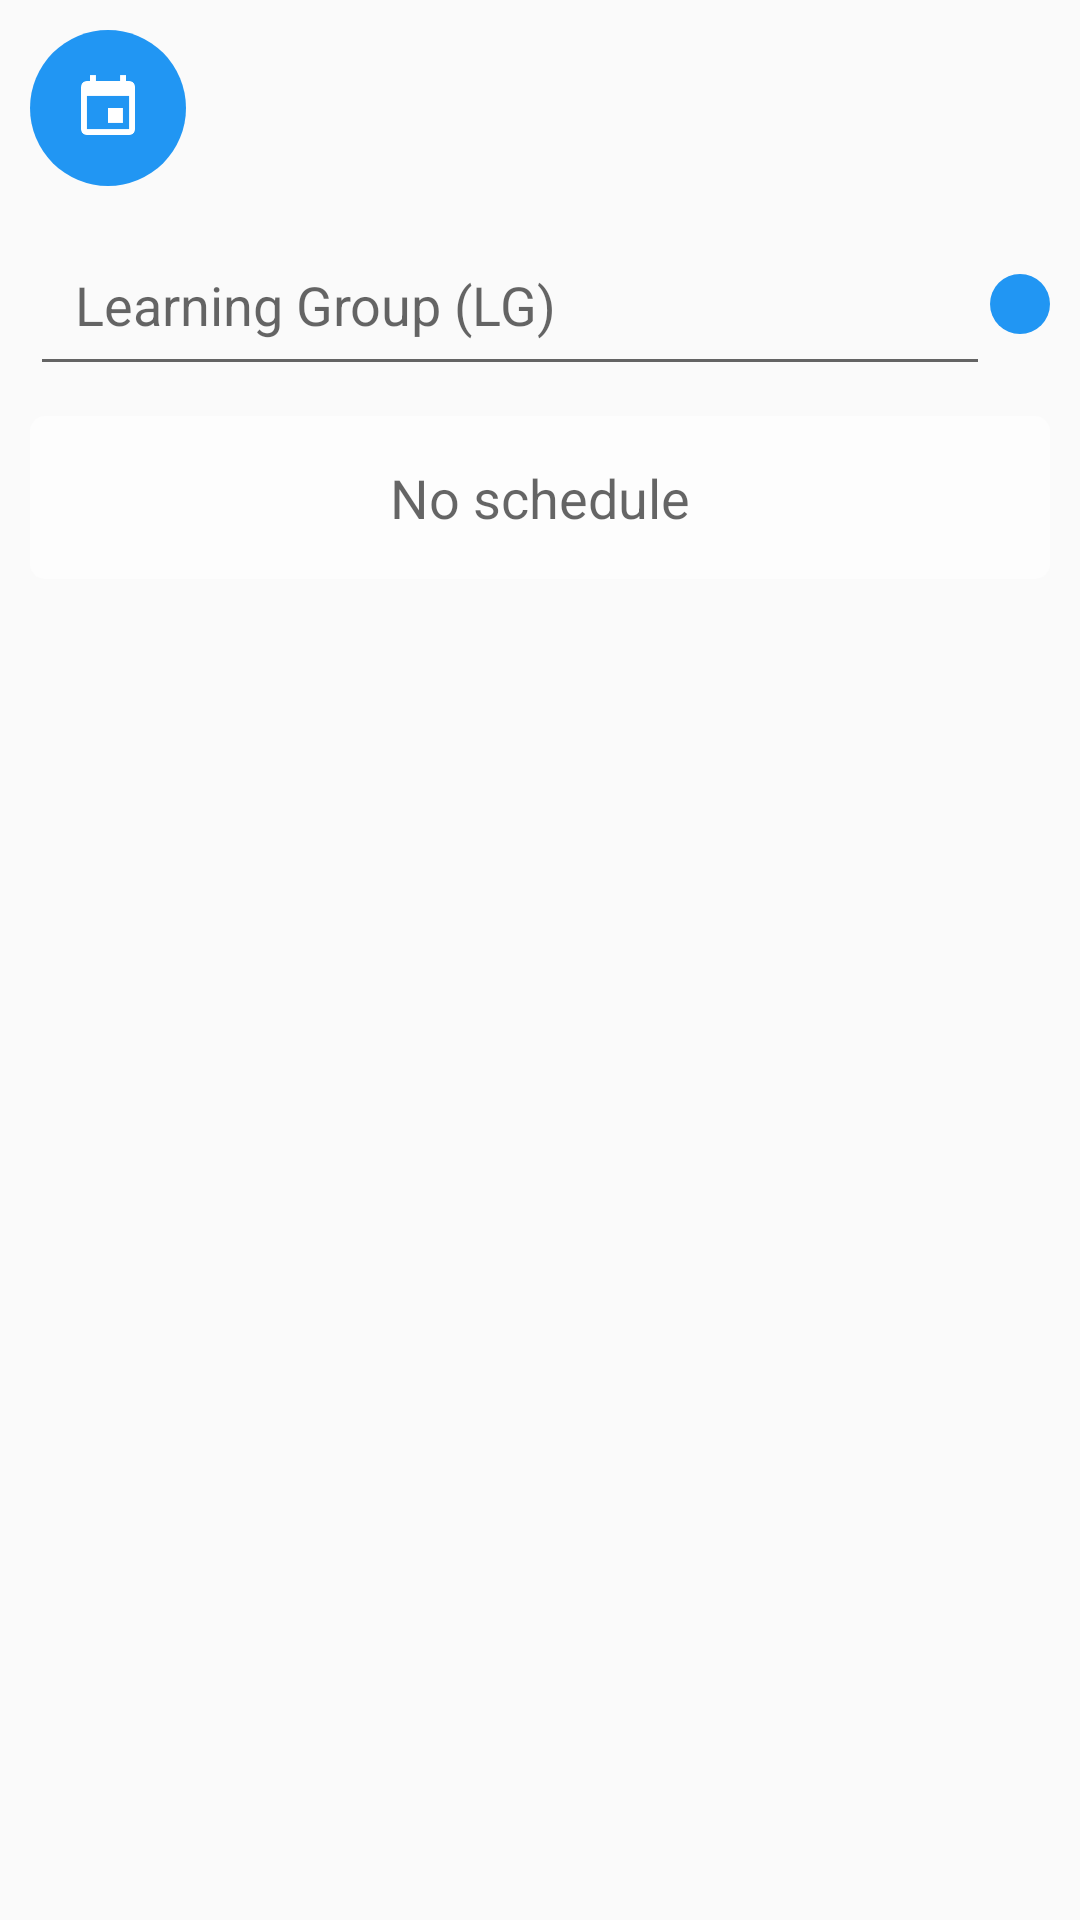

Where to tap for icons on this 1080px x 1920px app screen, as [x,y]:
date: [108,108]
